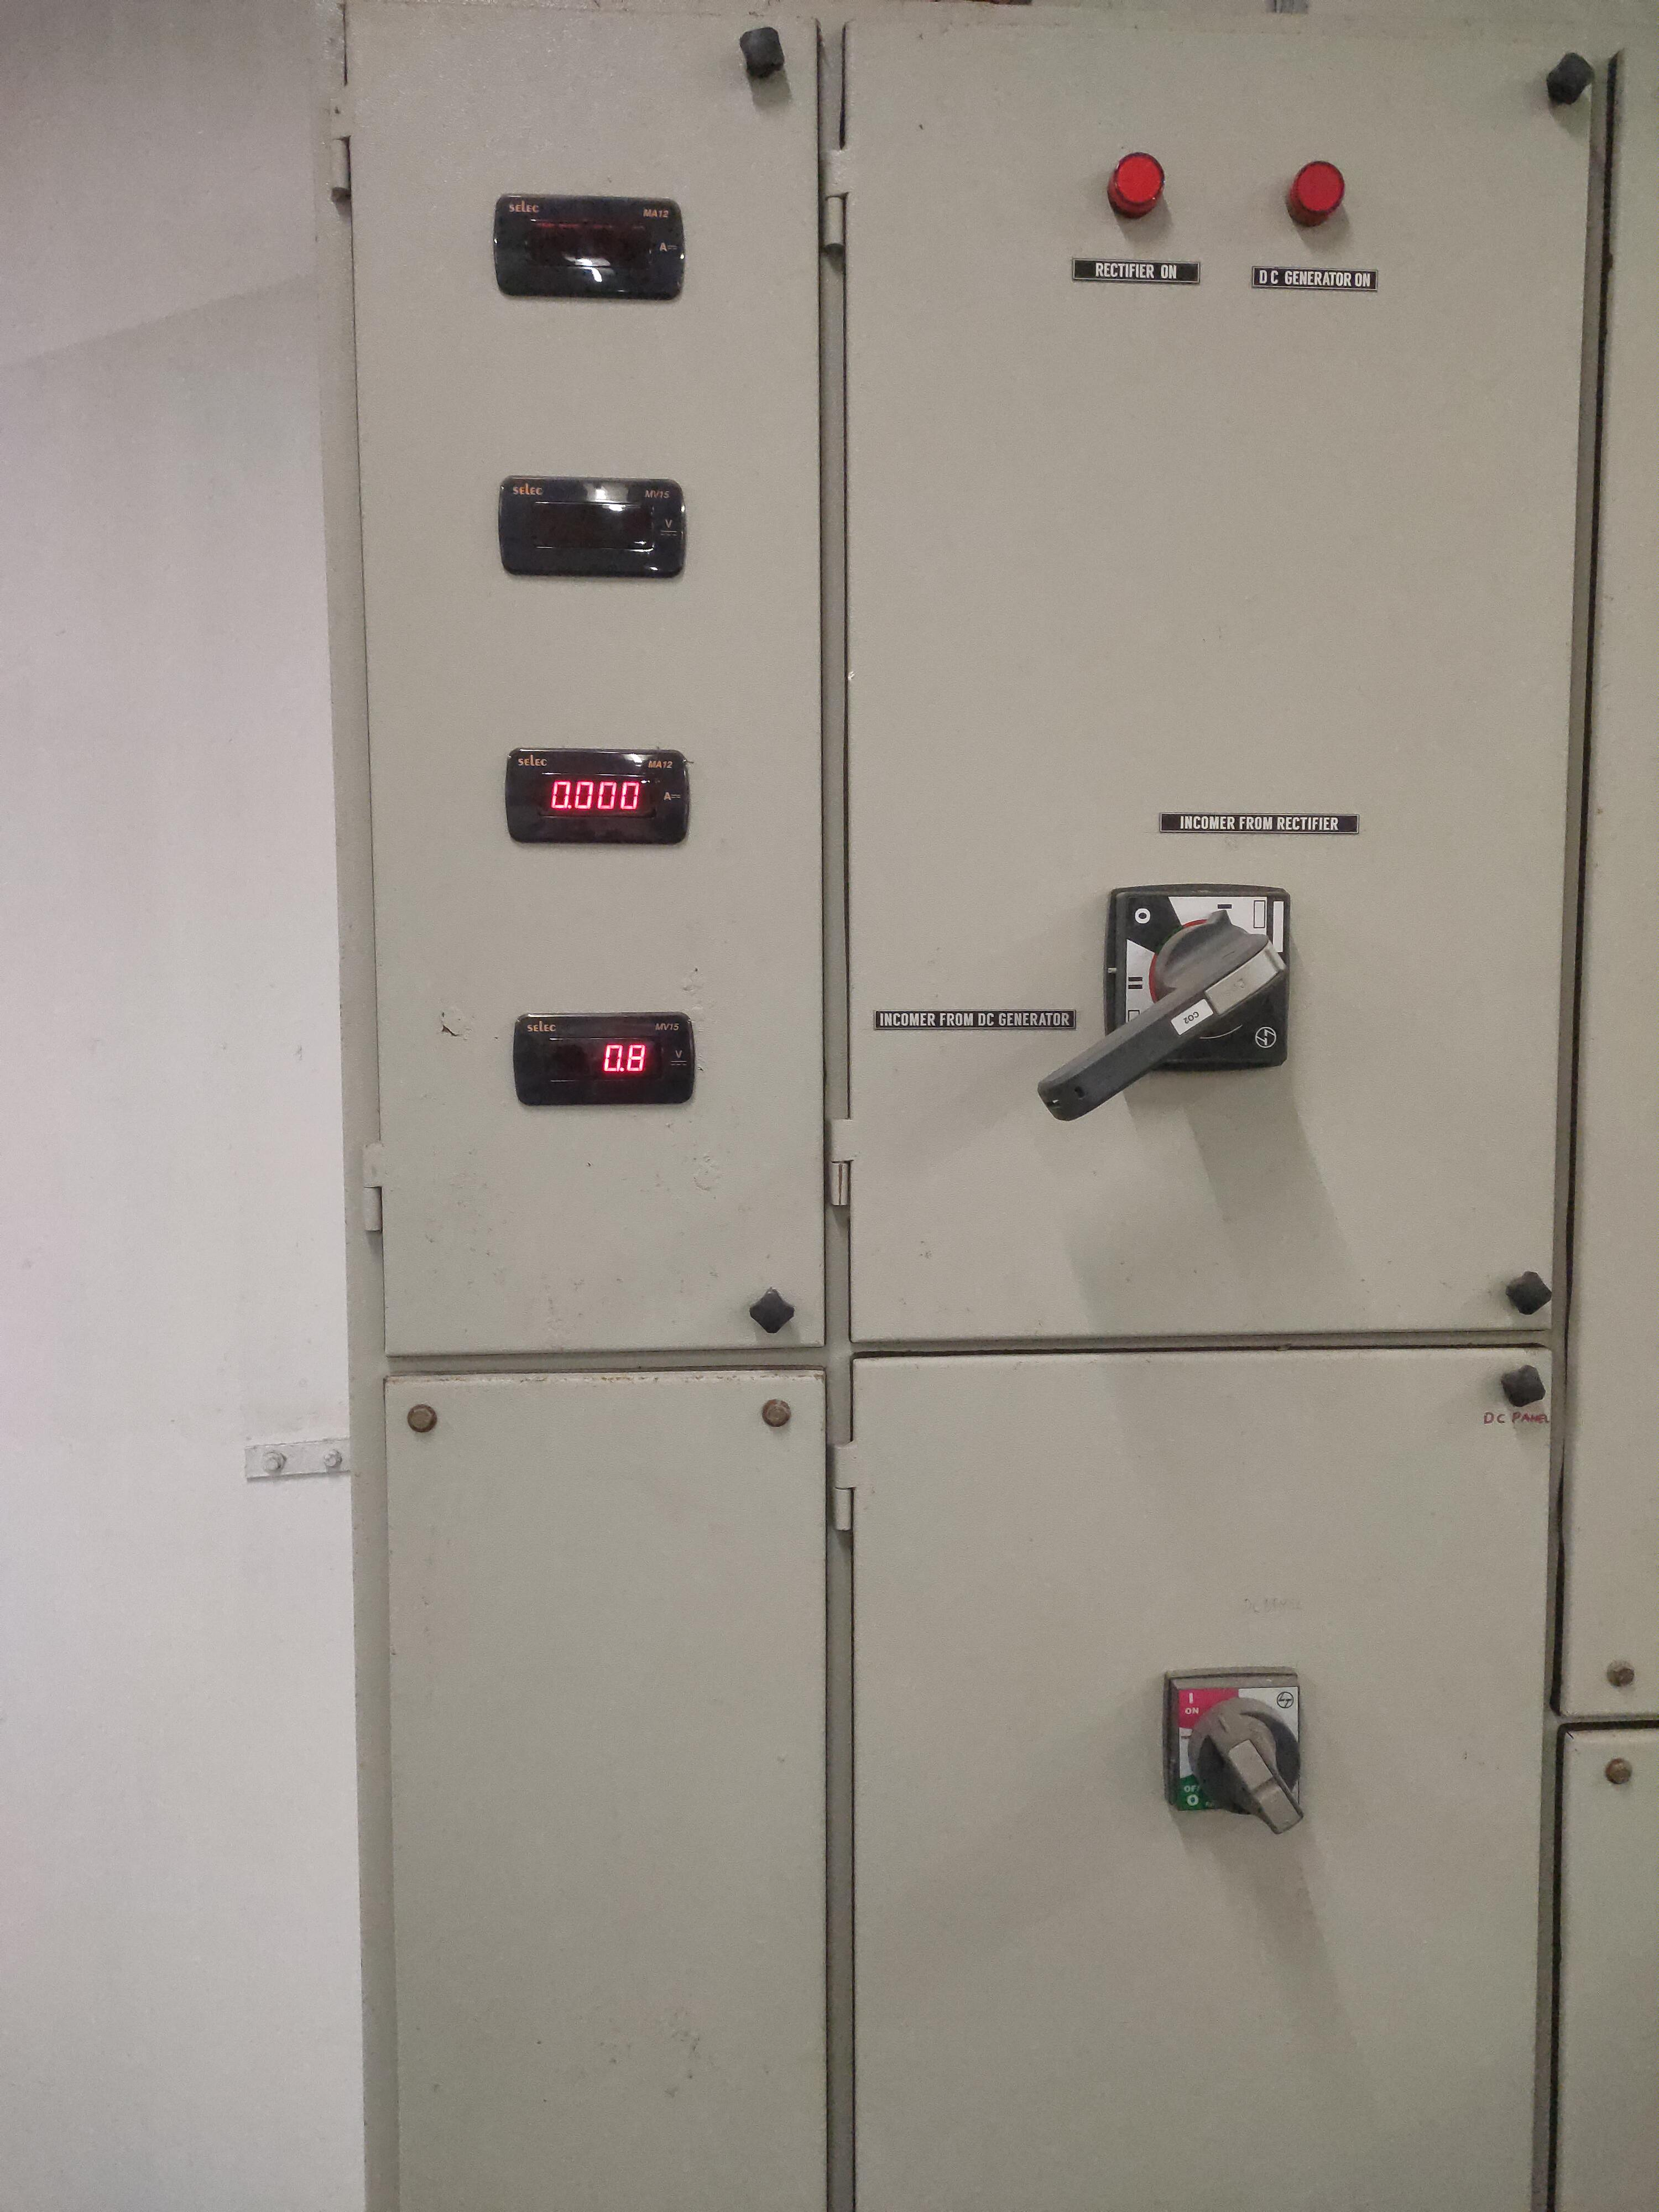Knob 1: (1019, 798, 1319, 1181)
Knob 2: (1115, 1644, 1366, 1851)
Light Indications: (1046, 127, 1429, 317)
